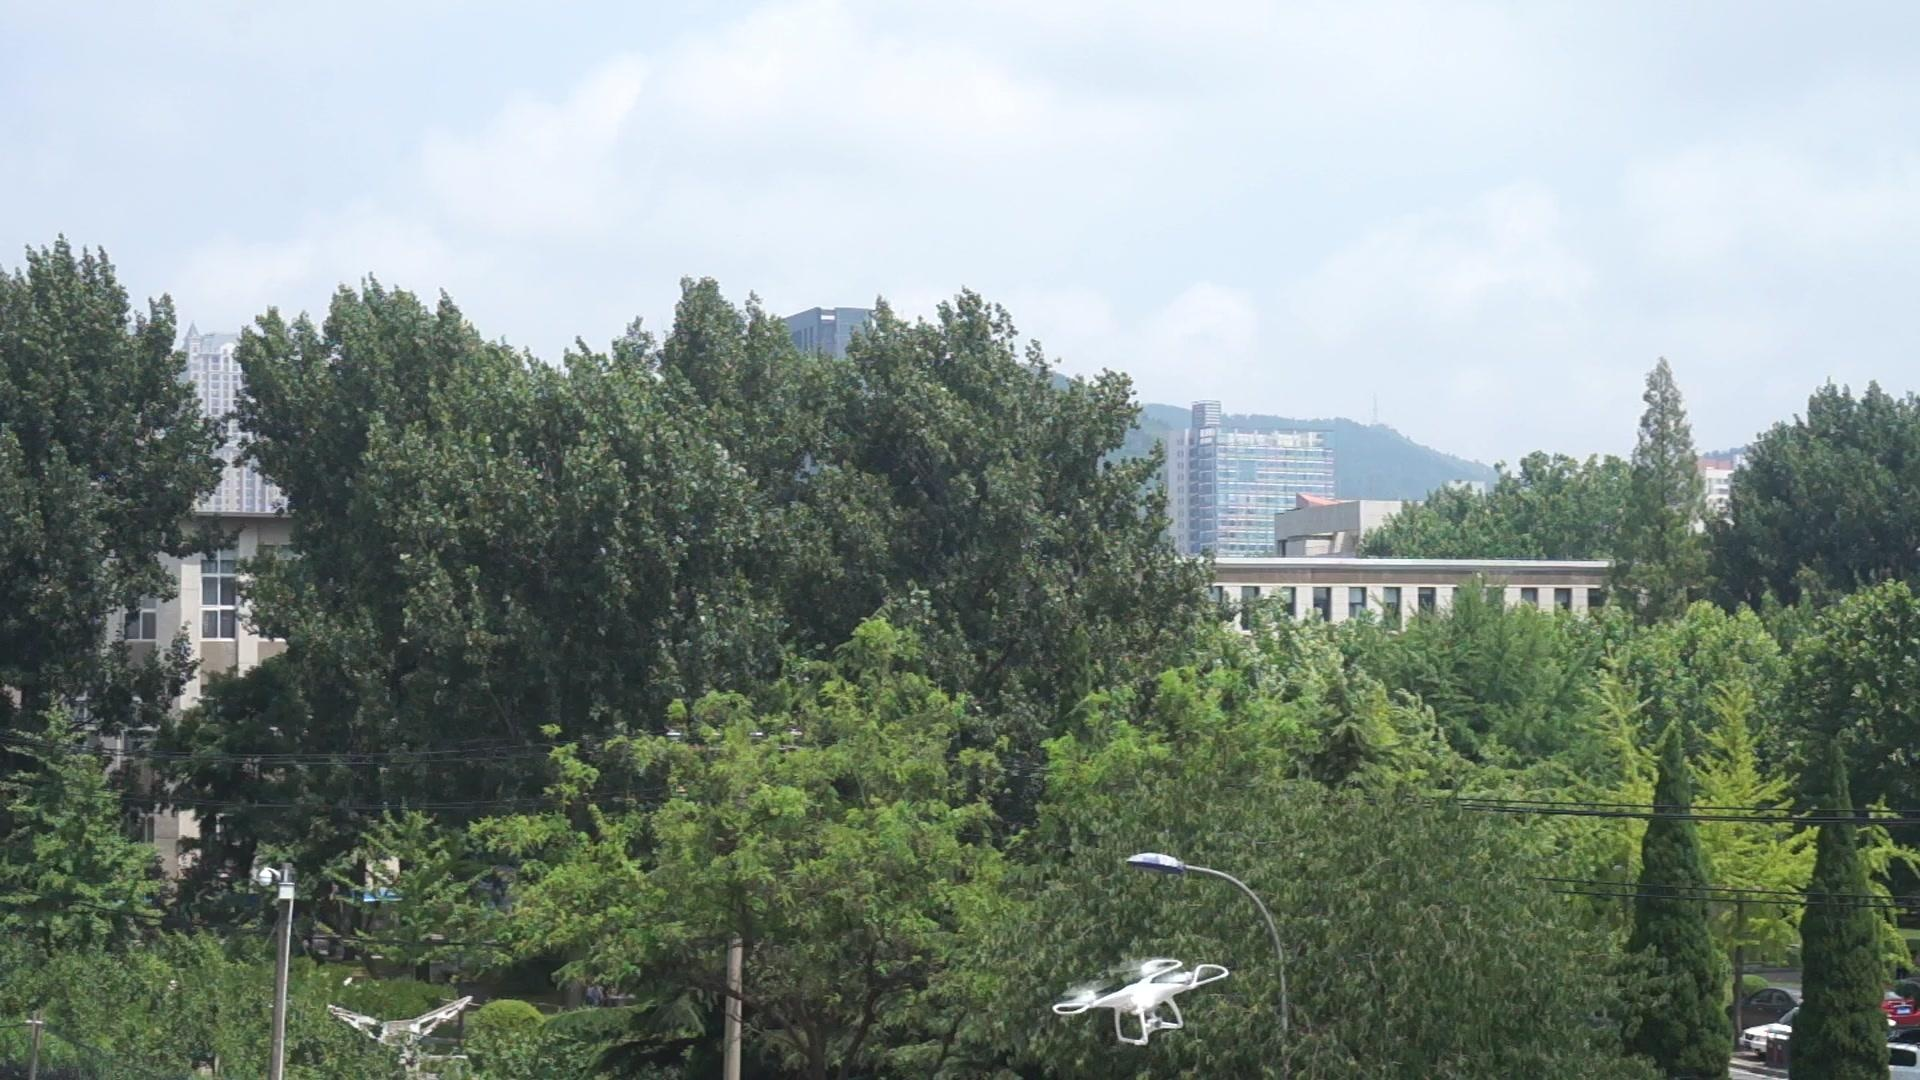UAV: (1054, 959, 1232, 1046)
